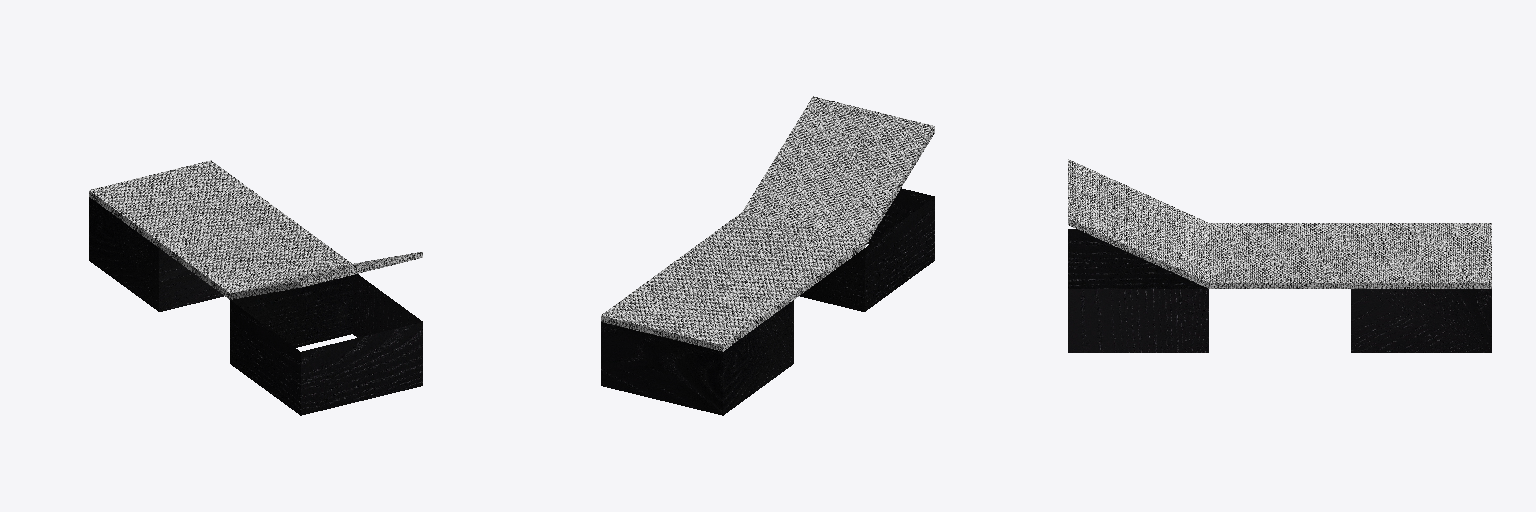
3 renders of one model, left to right at view 1: azimuth 30°, elevation 25°; view 2: azimuth 150°, elevation 25°; view 3: azimuth 270°, elevation 25°, orthographic.
Visible parts, largest first — view 1: base_Plane.003, colchon_Plane; view 2: colchon_Plane, base_Plane.003; view 3: colchon_Plane, base_Plane.003.
Boxes of the visible parts, x1=… form: base_Plane.003: x1=89, y1=197, x2=422, y2=415; colchon_Plane: x1=89, y1=160, x2=422, y2=299; colchon_Plane: x1=601, y1=96, x2=934, y2=351; base_Plane.003: x1=601, y1=188, x2=934, y2=415; colchon_Plane: x1=1068, y1=159, x2=1491, y2=288; base_Plane.003: x1=1068, y1=229, x2=1491, y2=352.
Bounding box in the file's own units: 1 × 1.05 × 3.
2 materials, 2 textured.